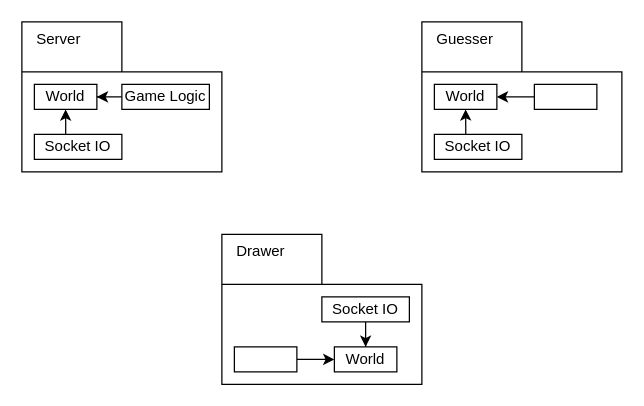
This 644x406 diagram has some shape labels left out. The centre of each missing label's shape, as x and y in pixels:
Drawing: point (265, 359)
Guess: point (565, 96)
